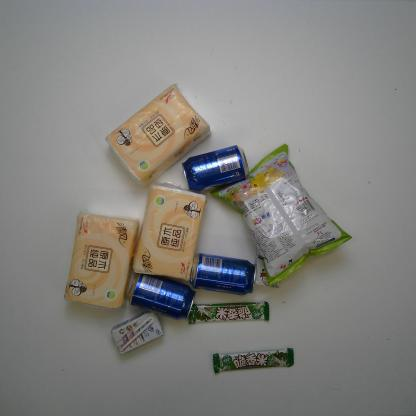Chocolate: (212, 342, 298, 374), (188, 297, 274, 327)
Drink: (125, 271, 198, 322), (180, 144, 252, 195), (188, 251, 258, 297)
Milk: (110, 312, 169, 355), (250, 236, 290, 289)
Puffed Food: (211, 144, 355, 286)
Tissue: (103, 82, 213, 189), (130, 179, 209, 282), (62, 211, 140, 312)
